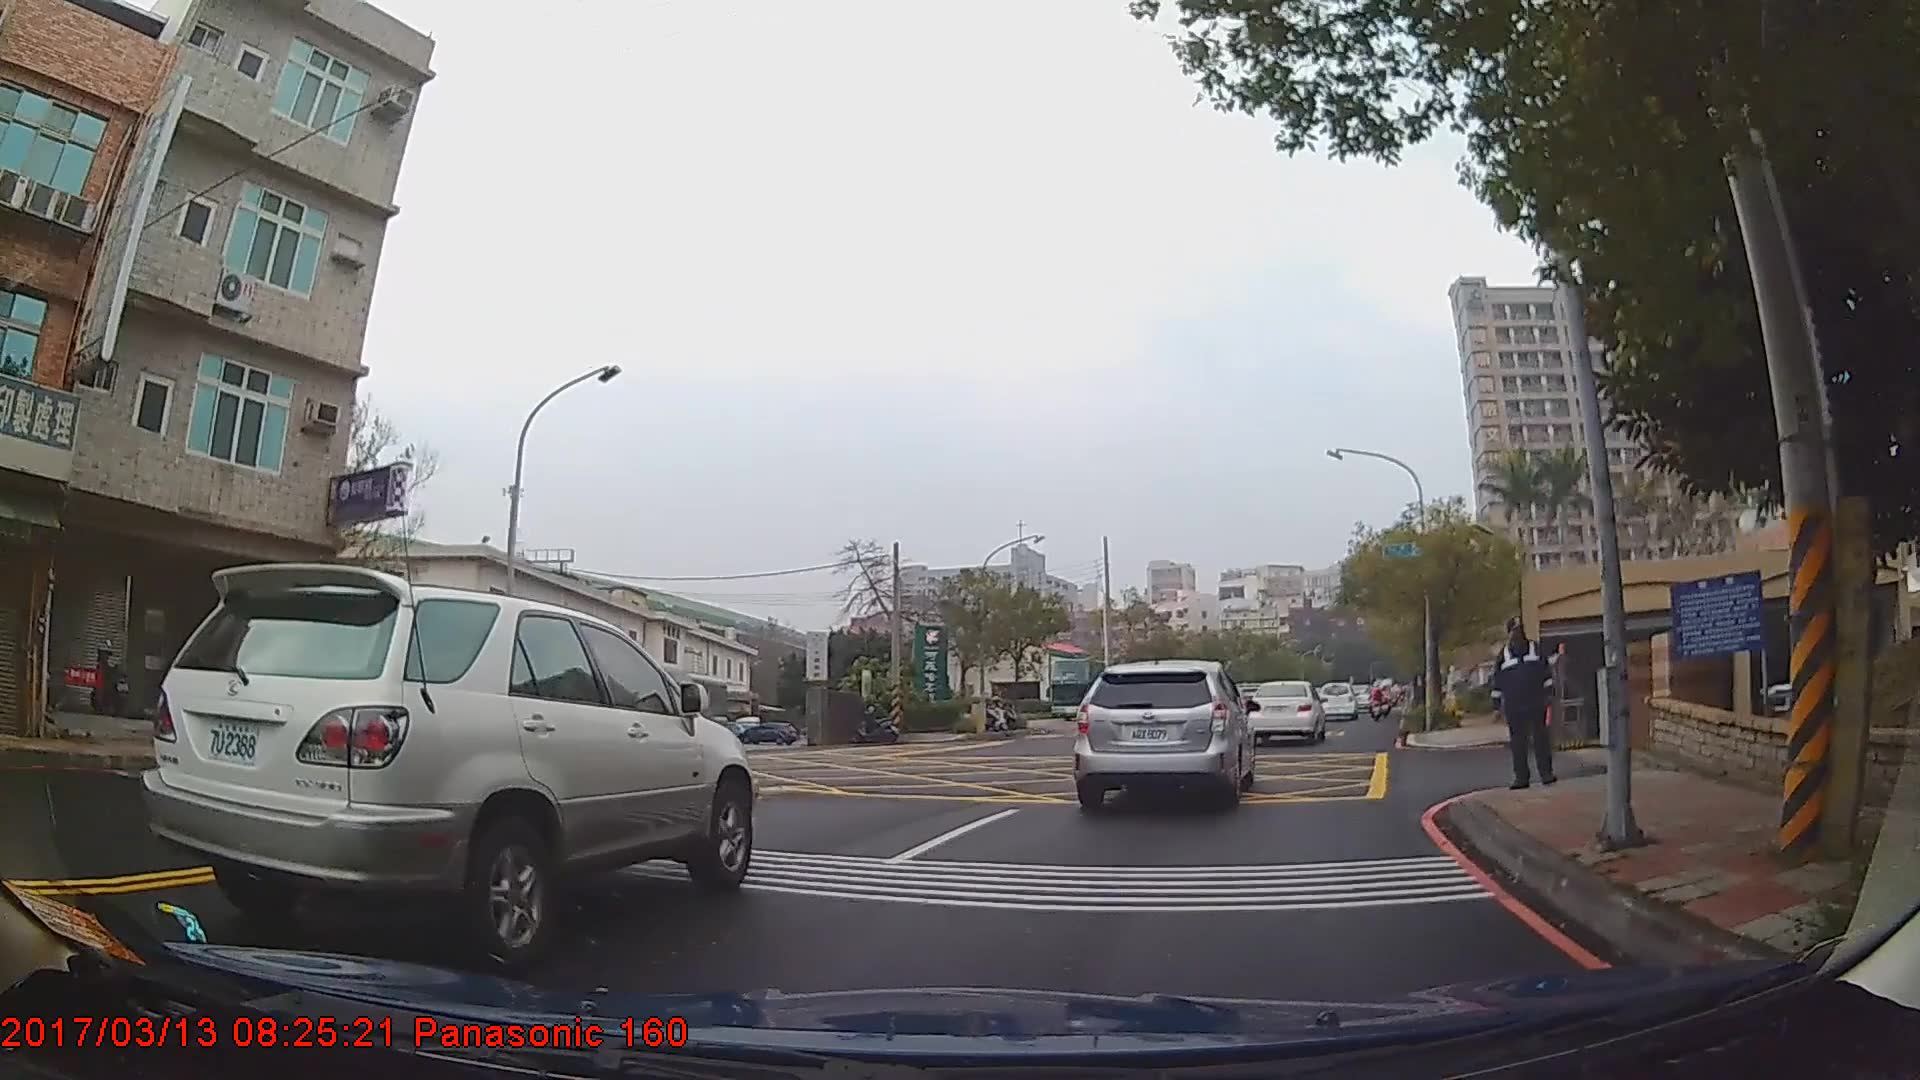pedestrian: (1492, 617, 1559, 792)
vehicle: (139, 564, 756, 969), (1071, 658, 1253, 812), (1243, 680, 1326, 746), (1317, 683, 1359, 725), (738, 722, 798, 744)
